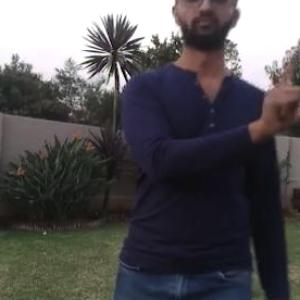land_hand: (256, 55, 299, 138)
